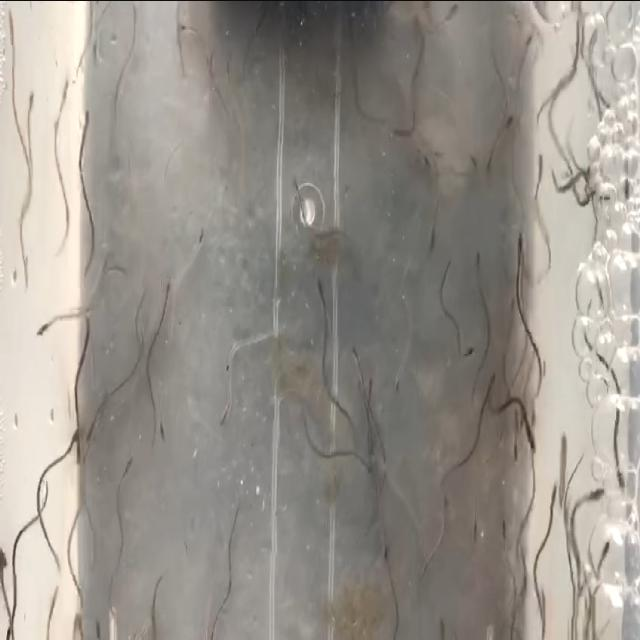active_glass_eel: (584, 483, 608, 508), (613, 462, 628, 500), (312, 268, 328, 302), (32, 313, 50, 342), (59, 72, 72, 112), (4, 7, 18, 44), (42, 590, 58, 622), (533, 148, 547, 184), (524, 416, 538, 450), (560, 428, 572, 466), (84, 414, 98, 446), (378, 536, 392, 568), (425, 223, 441, 251), (156, 412, 168, 448), (70, 610, 84, 640), (512, 236, 526, 266), (619, 178, 633, 208), (364, 376, 376, 410), (510, 423, 520, 463), (420, 149, 436, 173), (486, 368, 501, 393), (24, 81, 34, 118), (120, 454, 134, 480), (474, 244, 486, 274), (499, 511, 509, 547), (392, 362, 403, 394), (468, 511, 479, 543), (80, 115, 93, 142), (546, 486, 558, 515), (350, 346, 363, 372), (67, 421, 81, 445), (218, 398, 230, 426), (601, 540, 613, 568), (175, 16, 195, 32), (160, 278, 172, 304), (290, 171, 302, 197), (439, 490, 451, 516), (436, 614, 448, 640), (0, 541, 7, 585), (194, 222, 208, 244), (461, 343, 475, 365), (502, 107, 516, 129), (362, 458, 377, 478), (92, 612, 101, 640)
